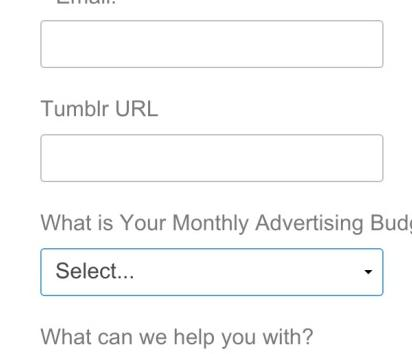field: (35, 133, 385, 184), (36, 21, 387, 69)
